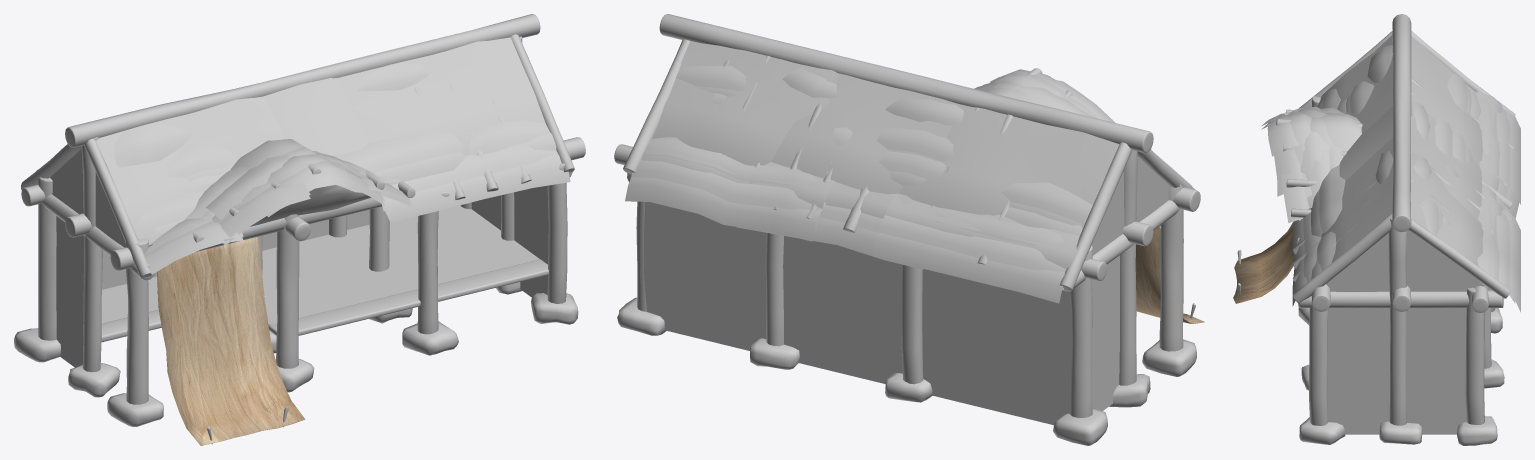
File: ThatchedHouseG.fbx
3 views of the same model, side by side, from view 1: azimuth 30°, elevation 25°; view 2: azimuth 150°, elevation 25°; view 3: azimuth 270°, elevation 25° (orthographic). The views are drawn at different scales.
Visible parts, largest first — view 1: ThatchedHouseG_08, RoofAlphaG, RoofAlbedoG, ThatchedHouseG_04, ThatchedHouseG_01, ThatchedHouseG_05, ThatchedHouseG_03, ThatchedHouseG_02; view 2: ThatchedHouseG_05, RoofAlphaG, RoofAlbedoG, ThatchedHouseG_08, ThatchedHouseG_03, ThatchedHouseG_04; view 3: RoofAlphaG, ThatchedHouseG_08, ThatchedHouseG_05, RoofAlbedoG, ThatchedHouseG_03, ThatchedHouseG_04.
Boxes of the visible parts, x1=… form: ThatchedHouseG_08: x1=21, y1=14, x2=585, y2=404; RoofAlphaG: x1=36, y1=63, x2=570, y2=274; RoofAlbedoG: x1=96, y1=37, x2=545, y2=238; ThatchedHouseG_04: x1=157, y1=237, x2=305, y2=445; ThatchedHouseG_01: x1=101, y1=205, x2=539, y2=323; ThatchedHouseG_05: x1=50, y1=149, x2=548, y2=367; ThatchedHouseG_03: x1=14, y1=282, x2=578, y2=426; ThatchedHouseG_02: x1=101, y1=259, x2=548, y2=342; ThatchedHouseG_05: x1=640, y1=157, x2=1168, y2=425; RoofAlphaG: x1=625, y1=66, x2=1192, y2=303; RoofAlbedoG: x1=653, y1=41, x2=1119, y2=228; ThatchedHouseG_08: x1=614, y1=14, x2=1200, y2=417; ThatchedHouseG_03: x1=617, y1=297, x2=1196, y2=445; ThatchedHouseG_04: x1=1135, y1=226, x2=1204, y2=323; RoofAlphaG: x1=1261, y1=45, x2=1520, y2=312; ThatchedHouseG_08: x1=1276, y1=14, x2=1515, y2=425; ThatchedHouseG_05: x1=1314, y1=106, x2=1484, y2=434; RoofAlbedoG: x1=1320, y1=35, x2=1487, y2=291; ThatchedHouseG_03: x1=1298, y1=308, x2=1504, y2=445; ThatchedHouseG_04: x1=1233, y1=221, x2=1294, y2=303.
Bounding box in the file's own units: 302 × 182 × 164.
